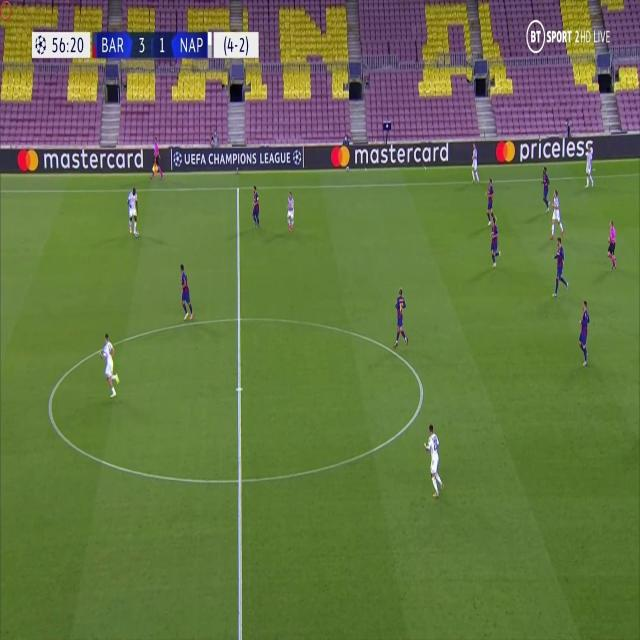player: (422, 422, 444, 498), (99, 329, 119, 398), (576, 296, 592, 367), (551, 237, 569, 298), (392, 286, 409, 348), (177, 261, 194, 322), (548, 188, 564, 240), (488, 217, 502, 270), (126, 184, 140, 236), (149, 135, 164, 182), (483, 176, 497, 224), (606, 216, 618, 270), (584, 142, 596, 186), (539, 163, 550, 210), (250, 182, 261, 228), (469, 141, 481, 183), (286, 188, 296, 231)
